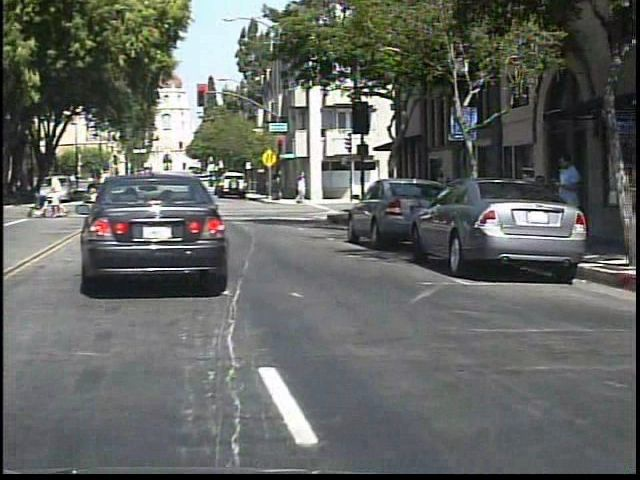person: (551, 146, 584, 262), (55, 171, 77, 220), (2, 175, 18, 210), (48, 174, 49, 207)
